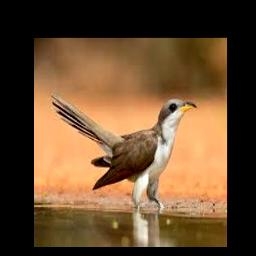Cuckoo: (51, 92, 197, 209)
